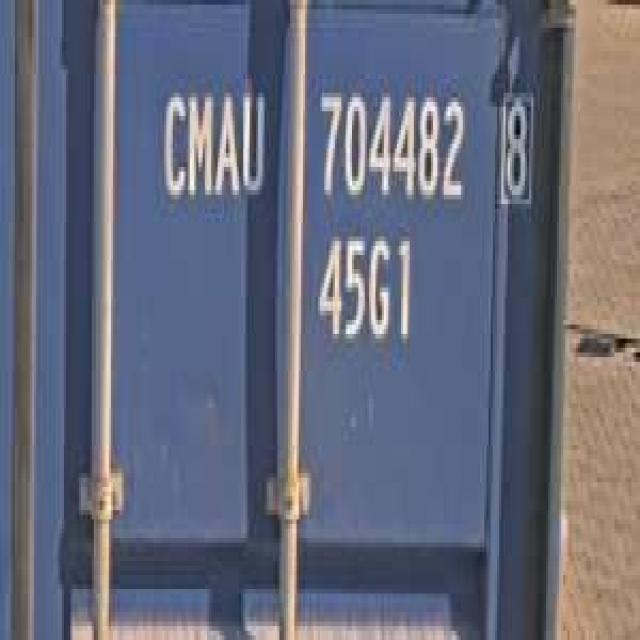dv: (495, 84, 535, 214)
owner: (156, 70, 269, 214)
serial: (312, 74, 469, 214)
size: (311, 223, 416, 357)
